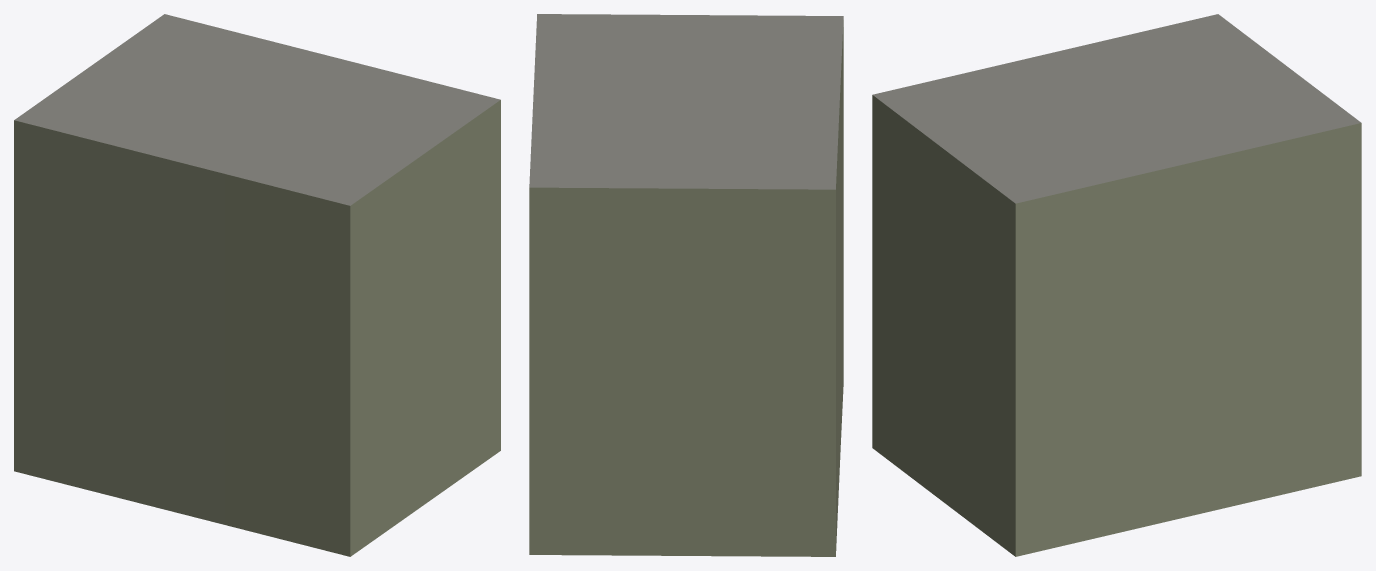
File: nyc-1034221-0.glb
3 views of the same model, side by side, from view 1: azimuth 30°, elevation 25°; view 2: azimuth 150°, elevation 25°; view 3: azimuth 270°, elevation 25° (orthographic). The views are drawn at different scales.
Parts seen in each view (by area): view 1: nyc-1034221-0; view 2: nyc-1034221-0; view 3: nyc-1034221-0.
Boxes of the visible parts, x1,y1,x2,y2 form: nyc-1034221-0: (14, 14, 500, 556); nyc-1034221-0: (529, 14, 843, 556); nyc-1034221-0: (872, 14, 1361, 556).
Bounding box in the file's own units: 35.02 × 30.42 × 38.18.
